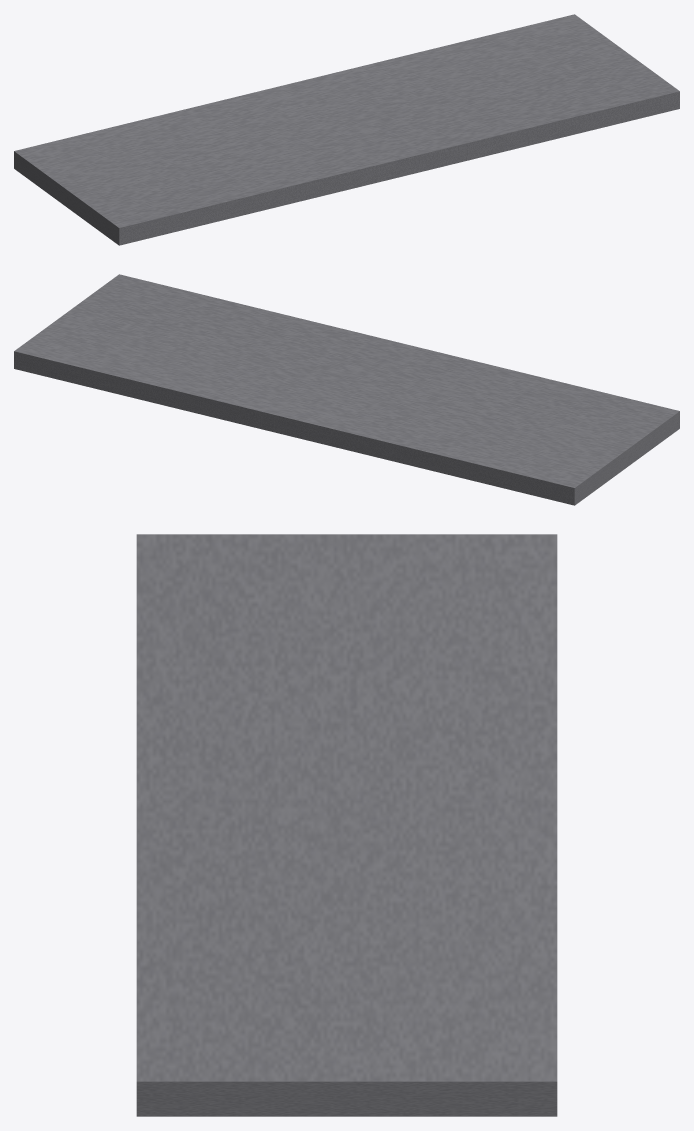
3 renders of one model, top to bottom at view 1: azimuth 30°, elevation 25°; view 2: azimuth 150°, elevation 25°; view 3: azimuth 270°, elevation 25°, orthographic. The views are drawn at different scales.
Parts seen in each view (by area): view 1: win_house_1u_lod0_run001; view 2: win_house_1u_lod0_run001; view 3: win_house_1u_lod0_run001.
Boxes of the visible parts, x1=… form: win_house_1u_lod0_run001: x1=14, y1=14, x2=679, y2=245; win_house_1u_lod0_run001: x1=14, y1=274, x2=679, y2=505; win_house_1u_lod0_run001: x1=136, y1=534, x2=557, y2=1116.
Size of the model in its own units: 4 by 0.12 by 1.3.
Materials: 1 (1 with a texture image).
